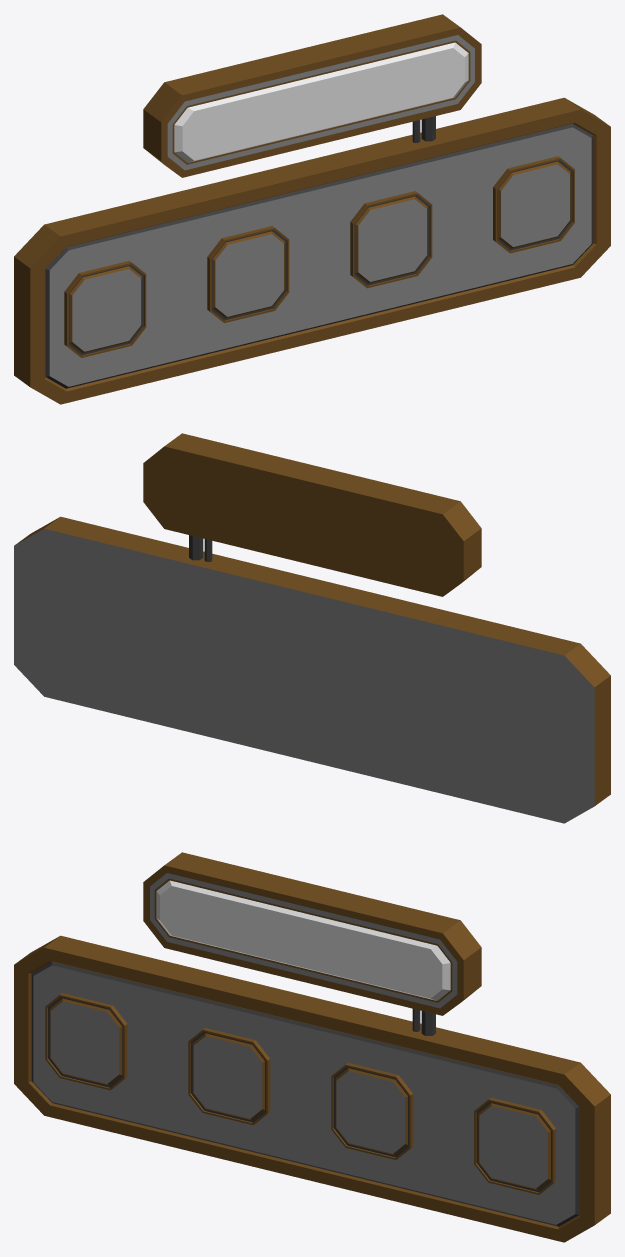
The model's file is sequenceButtonConsole.fbx.
3 views of the same model, one above another, from view 1: azimuth 30°, elevation 25°; view 2: azimuth 150°, elevation 25°; view 3: azimuth 330°, elevation 25° (orthographic).
Parts seen in each view (by area): view 1: Sequence Buttons Console; view 2: Sequence Buttons Console; view 3: Sequence Buttons Console.
Boxes of the visible parts, x1,y1,x2,y2 form: Sequence Buttons Console: [14, 14, 610, 404]; Sequence Buttons Console: [14, 433, 610, 823]; Sequence Buttons Console: [14, 852, 610, 1242].
Size of the model in its own units: 182 by 10.97 by 84.12.
